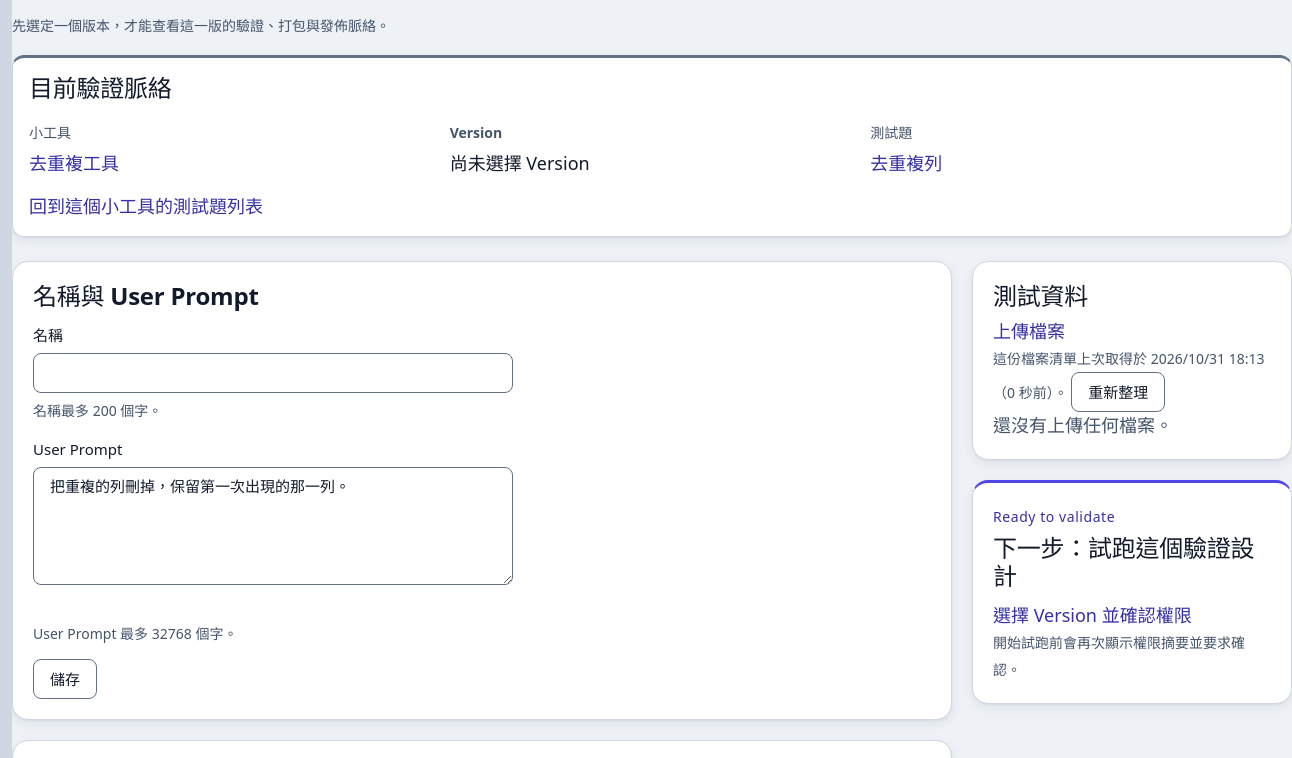
Test: a disabled prompt save exposes its visible reason to assistive technology
(page scrolled)
Step 1. Clear the field with id "edit-name" → [273, 373], box [33,353,513,393]
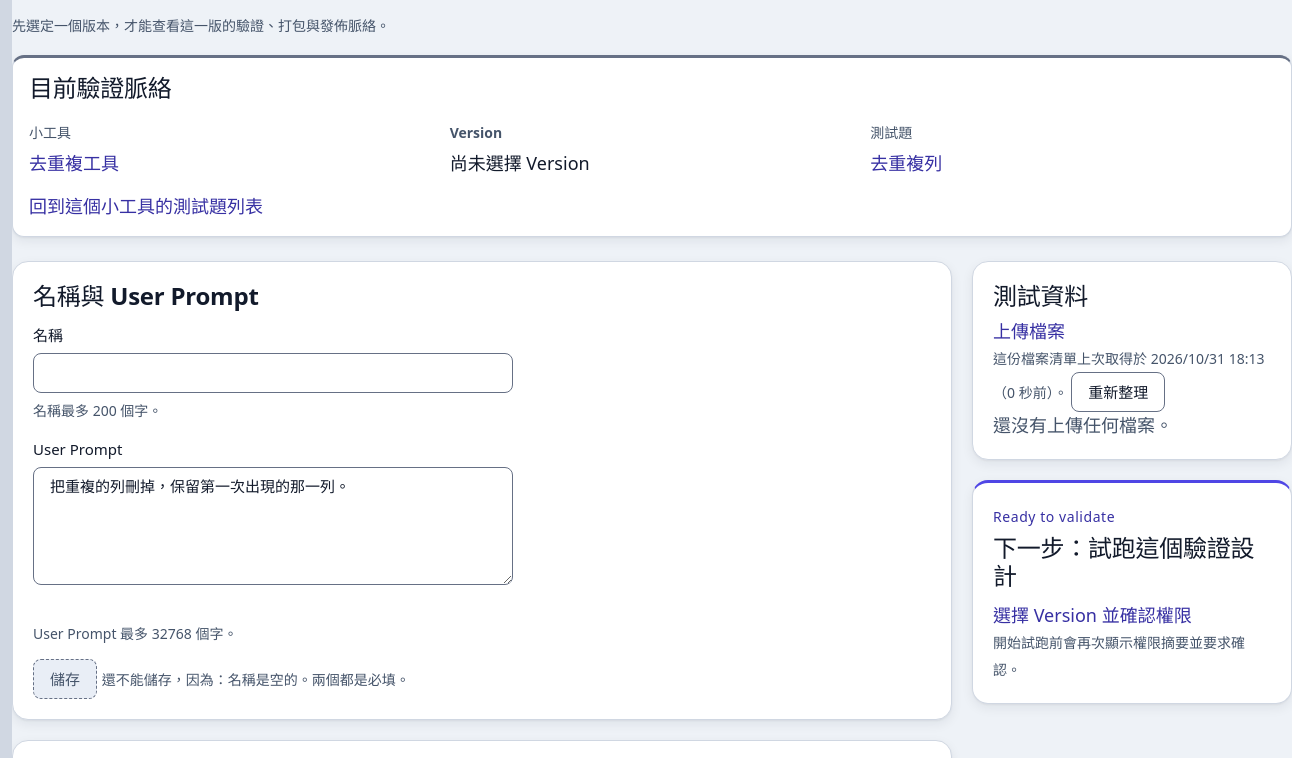
Expected: the button "儲存" is disabled, [33,659,97,699]
